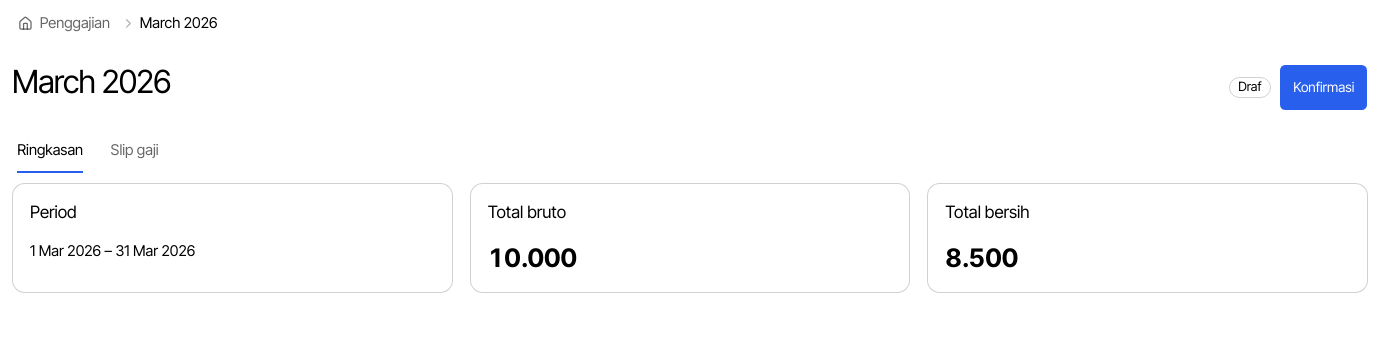
Test: PayrollRunDetail › switches to the payslips tab on selection
Click the tab "Slip gaji": [135, 151] box [110,128,160,174]
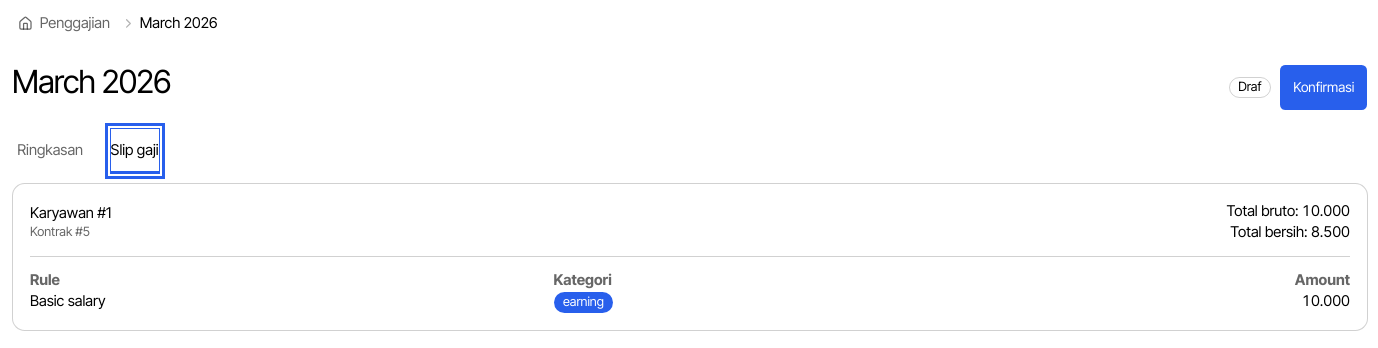
Result: the text "Basic salary" is shown at [30,291,554,313]
